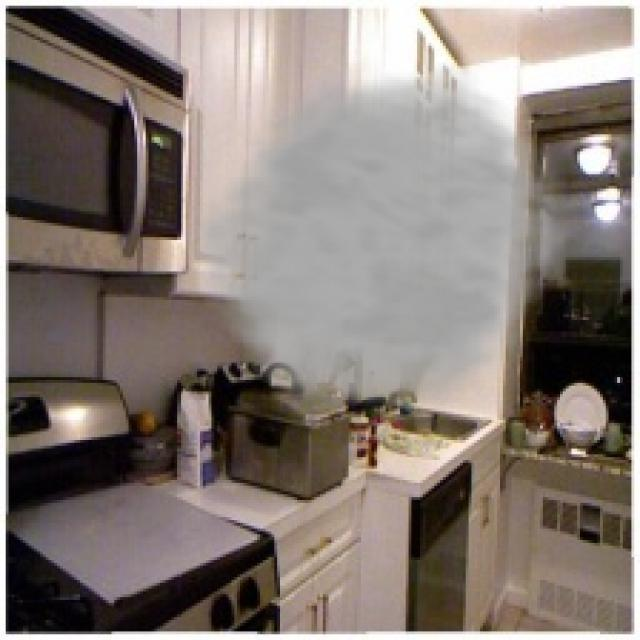Smoke: (182, 62, 588, 428)
